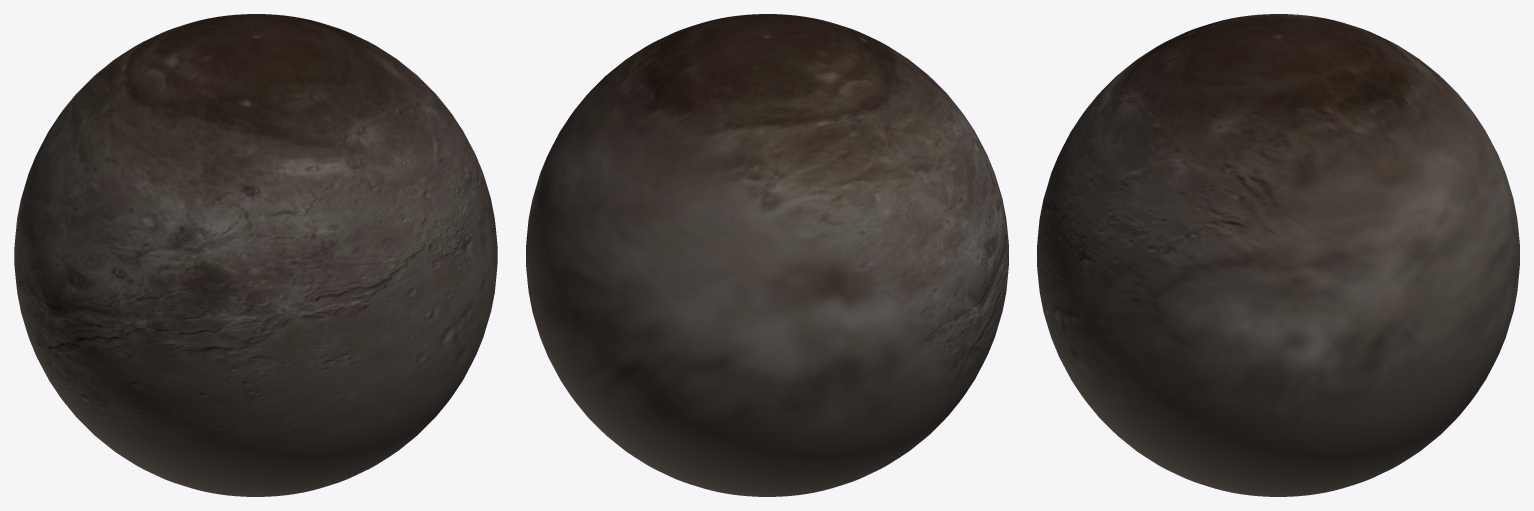
Rendered from mooncharon.glb.
3 renders of one model, left to right at view 1: azimuth 30°, elevation 25°; view 2: azimuth 150°, elevation 25°; view 3: azimuth 270°, elevation 25°, orthographic.
Parts seen in each view (by area): view 1: cylindrically_mapped_sphere:Mesh.001; view 2: cylindrically_mapped_sphere:Mesh.001; view 3: cylindrically_mapped_sphere:Mesh.001.
Part boxes in pixels (x1,y1,x2,y2): cylindrically_mapped_sphere:Mesh.001: (14,14,497,496); cylindrically_mapped_sphere:Mesh.001: (526,14,1008,496); cylindrically_mapped_sphere:Mesh.001: (1037,14,1519,496).
Bounding box in the file's own units: 604 × 604 × 604.
1 material, 1 textured.
